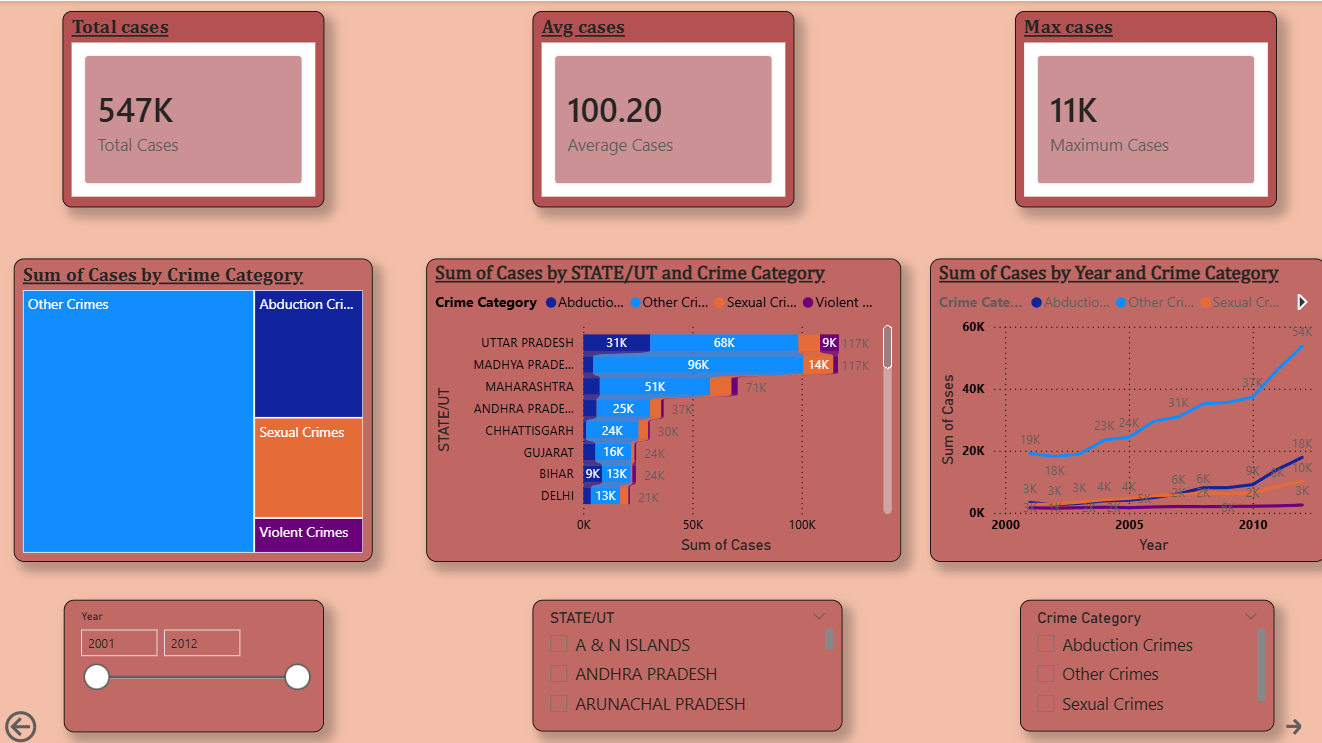

The dashboard page shown, as its layout file describes it:
{"tool":"powerbi","page":{"name":"Crime category","canvas":[1280,720],"ordinal":2},"visuals":[{"type":"cardVisual","title":"Total cases","fields":{"Data":["in.Total Cases"]},"box":[59.9,9.8,253.1,189.5],"z":0},{"type":"cardVisual","title":"Max cases","fields":{"Data":["in.Maximum Cases"]},"box":[979.5,9.8,253.1,189.5],"z":1000},{"type":"cardVisual","title":"Avg cases","fields":{"Data":["in.Average Cases"]},"box":[513.6,9.8,253.1,189.5],"z":2000},{"type":"treemap","fields":{"Group":["in.Crime Category"],"Values":["Sum(in.Cases)"]},"box":[13.3,248.5,346.2,293.2],"z":3000},{"type":"lineChart","fields":{"Category":["in.Year"],"Y":["Sum(in.Cases)"],"Series":["in.Crime Category"]},"box":[897.6,248.5,382.4,293.2],"z":4000},{"type":"barChart","fields":{"Category":["in.STATE/UT"],"Series":["in.Crime Category"],"Y":["Sum(in.Cases)"]},"box":[411.4,248.5,458.4,293.2],"z":5000},{"type":"slicer","fields":{"Values":["in.Year"]},"box":[61.5,577.9,250.9,127.9],"z":6000},{"type":"slicer","fields":{"Values":["in.STATE/UT"]},"box":[513.6,578.4,299.6,127.2],"z":7000},{"type":"slicer","fields":{"Values":["in.Crime Category"]},"box":[984.4,578.4,245.8,127.2],"z":8000},{"type":"actionButton","box":[0,680,100,40],"z":9000},{"type":"actionButton","box":[1236.6,679.2,43.4,41],"z":9001}]}

Visuals, with their boxes in screenshot pixels (x1, y1, x2, y2), scaled from the page's 1280x720 canvas onto the 1322x743 screenshot:
"Total cases" cardVisual: x1=62, y1=10, x2=323, y2=206
"Max cases" cardVisual: x1=1012, y1=10, x2=1273, y2=206
"Avg cases" cardVisual: x1=530, y1=10, x2=792, y2=206
treemap - in.Crime Category x Sum(in.Cases): x1=14, y1=256, x2=371, y2=559
lineChart - in.Year x Sum(in.Cases): x1=927, y1=256, x2=1321, y2=559
barChart - in.STATE/UT x in.Crime Category: x1=425, y1=256, x2=898, y2=559
slicer - in.Year: x1=64, y1=596, x2=323, y2=728
slicer - in.STATE/UT: x1=530, y1=597, x2=840, y2=728
slicer - in.Crime Category: x1=1017, y1=597, x2=1271, y2=728
actionButton: x1=0, y1=702, x2=103, y2=742
actionButton: x1=1277, y1=701, x2=1321, y2=742
